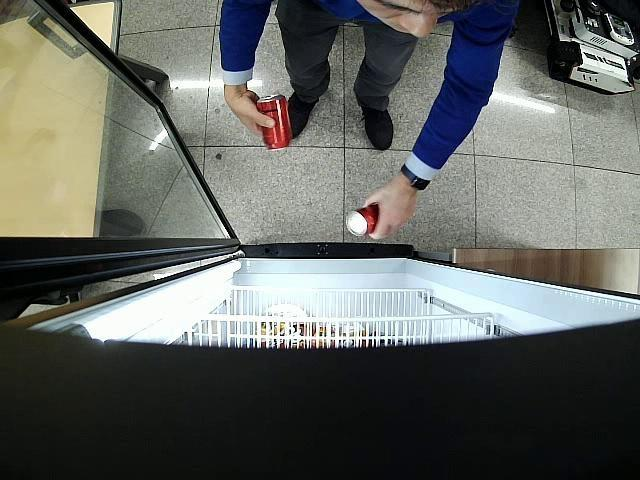11_cocaColaZero: (258, 94, 292, 153), (346, 203, 379, 236)
